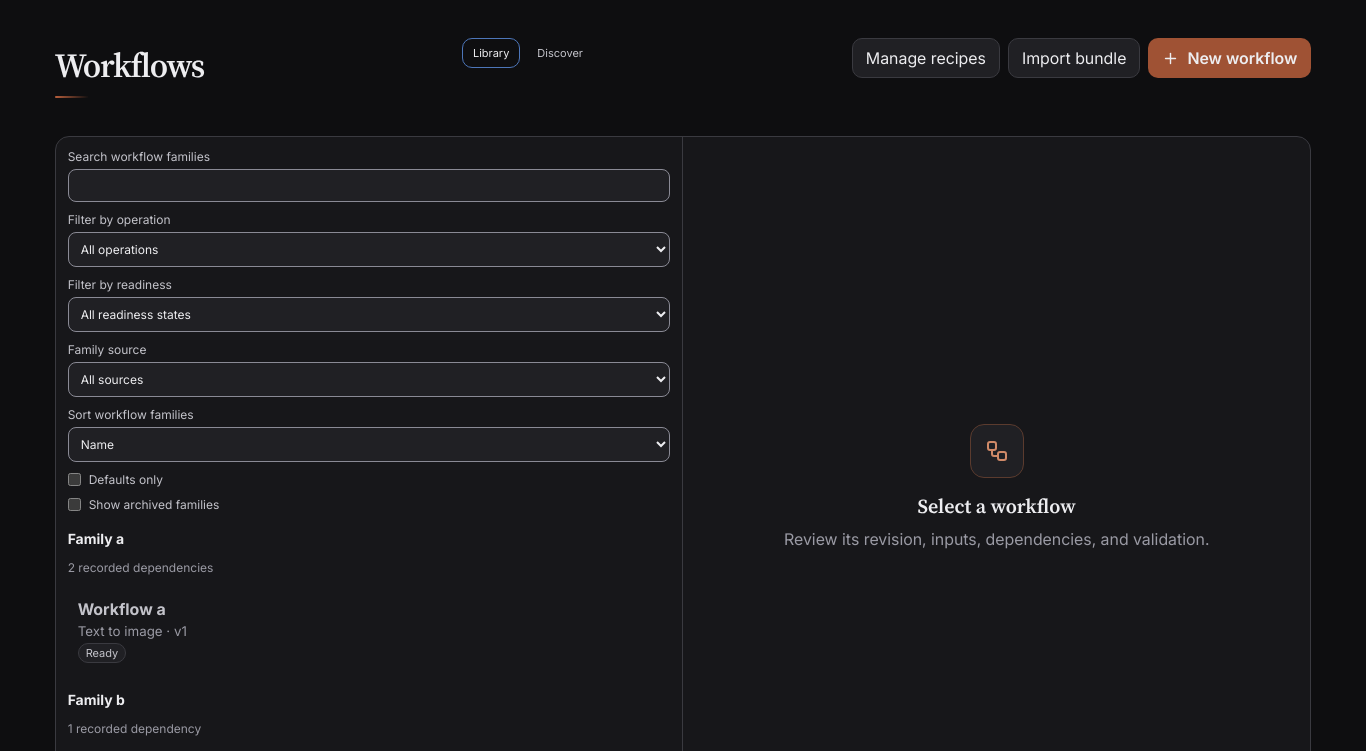
it: requests dependency summaries and finds a family by a current dependency name
Expected: the heading "Family a" is shown, x1=68 y1=530 x2=124 y2=547
Expected: the text "2 recorded dependencies" is shown, x1=68 y1=560 x2=213 y2=575
In the search field labelled "Search workflow families": (369, 186) x1=68 y1=169 x2=670 y2=202, type " LANDSCAPE CHECKPOINT "
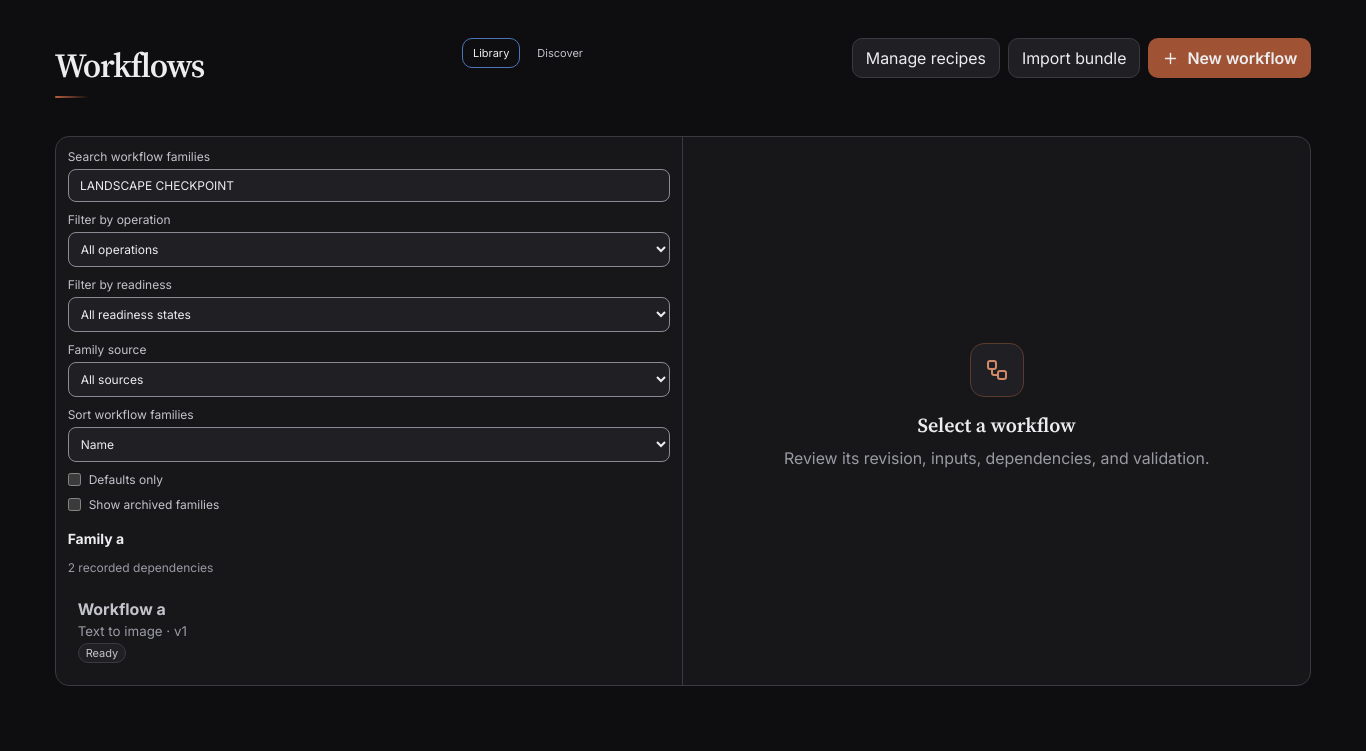
Expected: the heading "Family a" is shown, x1=68 y1=530 x2=124 y2=547
Expected: the heading "Family b" is gone
Click the text "Workflow a": (122, 609) x1=78 y1=599 x2=166 y2=619
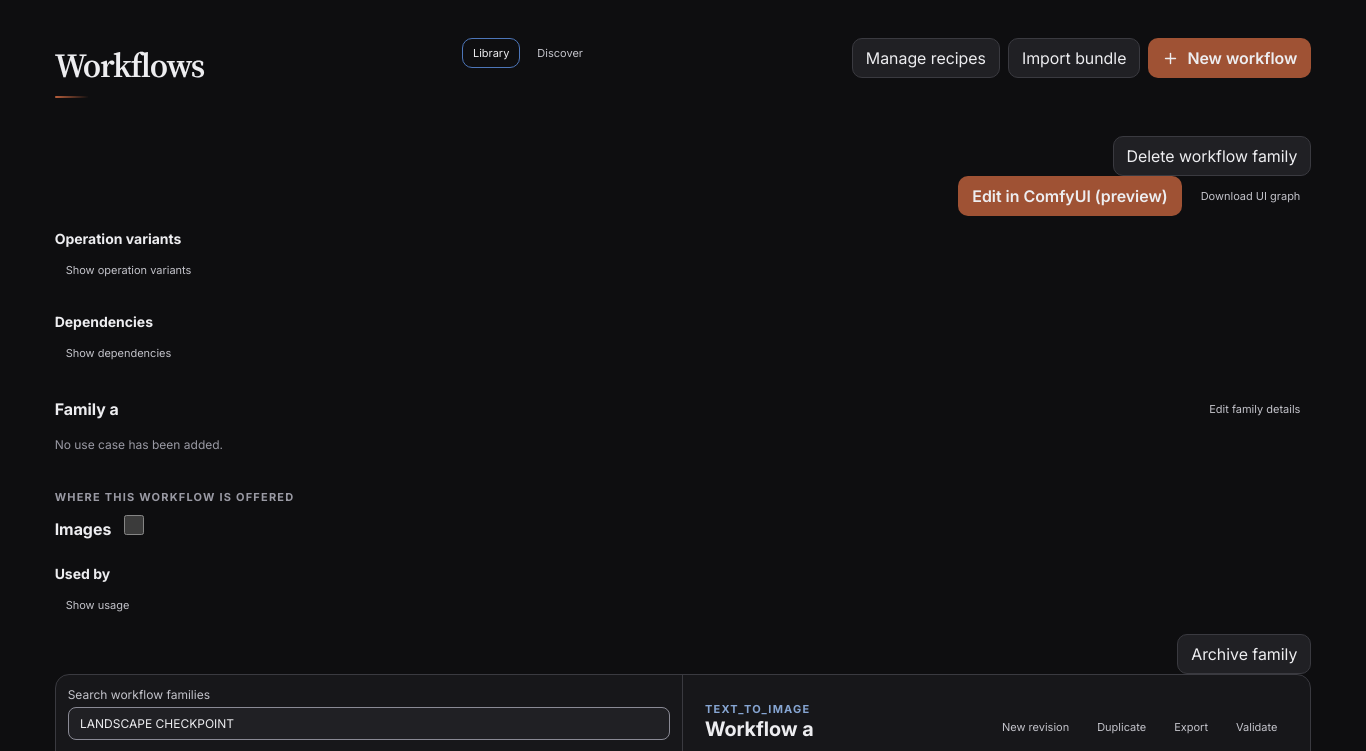
Expected: the button "New revision" is shown, x1=991 y1=712 x2=1080 y2=742
